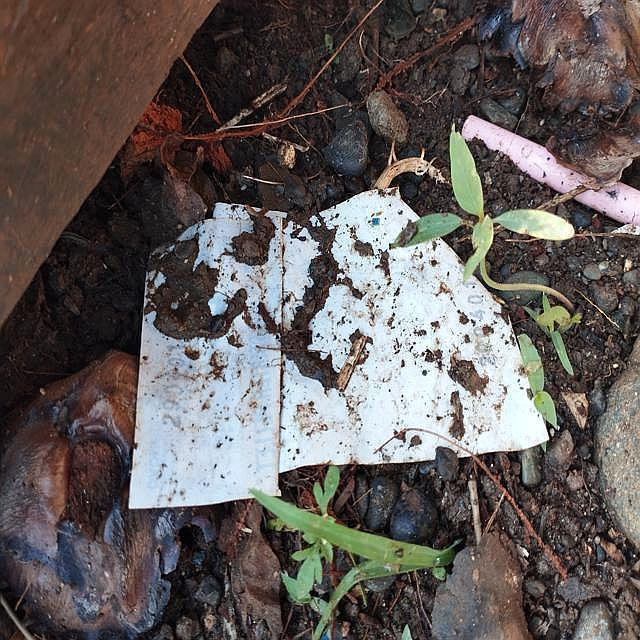Biodegradable: (131, 189, 541, 509)
